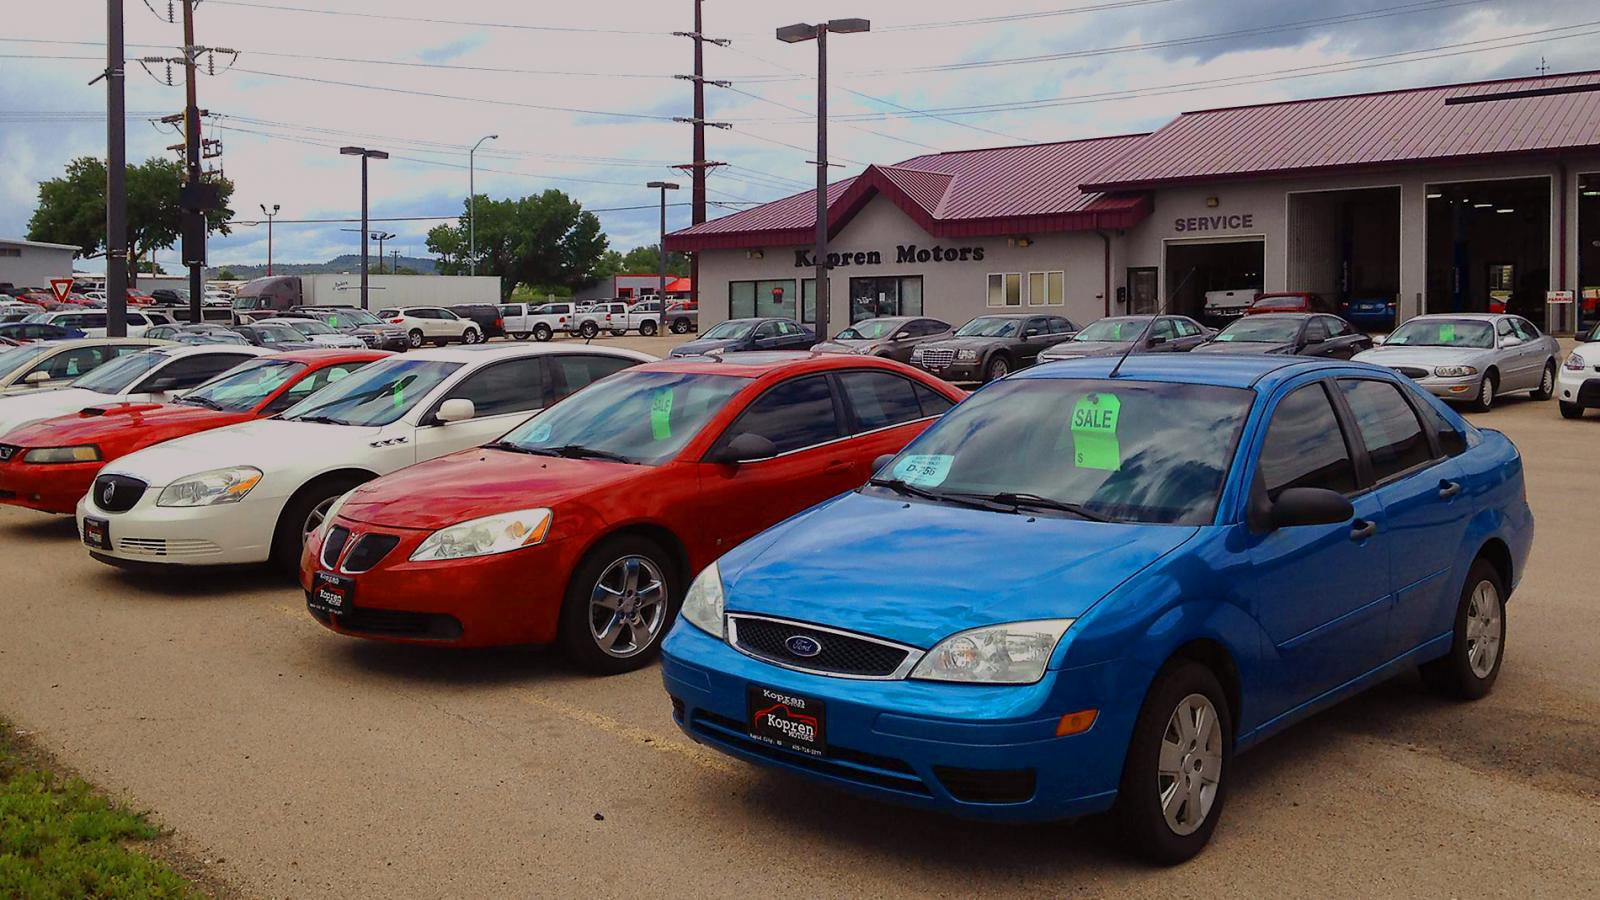car: (644, 360, 1532, 842), (302, 345, 991, 670), (70, 342, 700, 592), (12, 335, 474, 531), (1349, 314, 1568, 408), (1032, 310, 1220, 396), (921, 305, 1081, 382), (1192, 304, 1355, 378), (805, 316, 951, 374), (673, 311, 805, 368)
